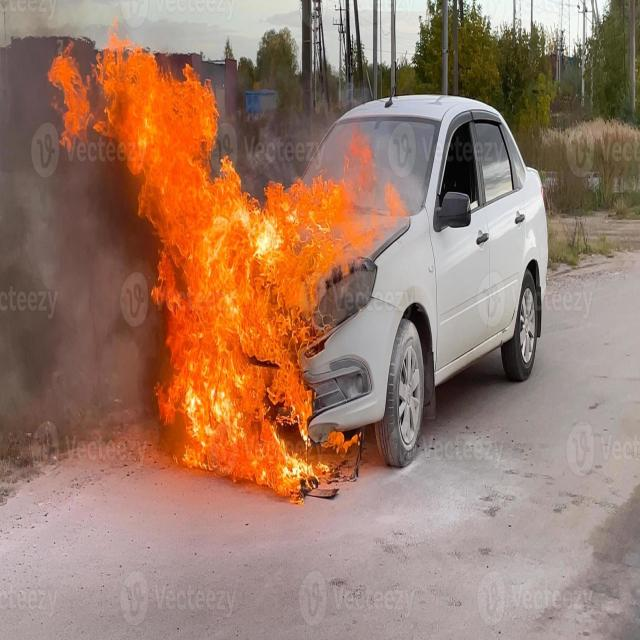fire: (152, 283, 329, 502), (138, 174, 350, 283), (119, 45, 218, 175), (49, 40, 89, 149), (93, 17, 123, 137), (344, 132, 372, 188), (350, 206, 382, 252)
